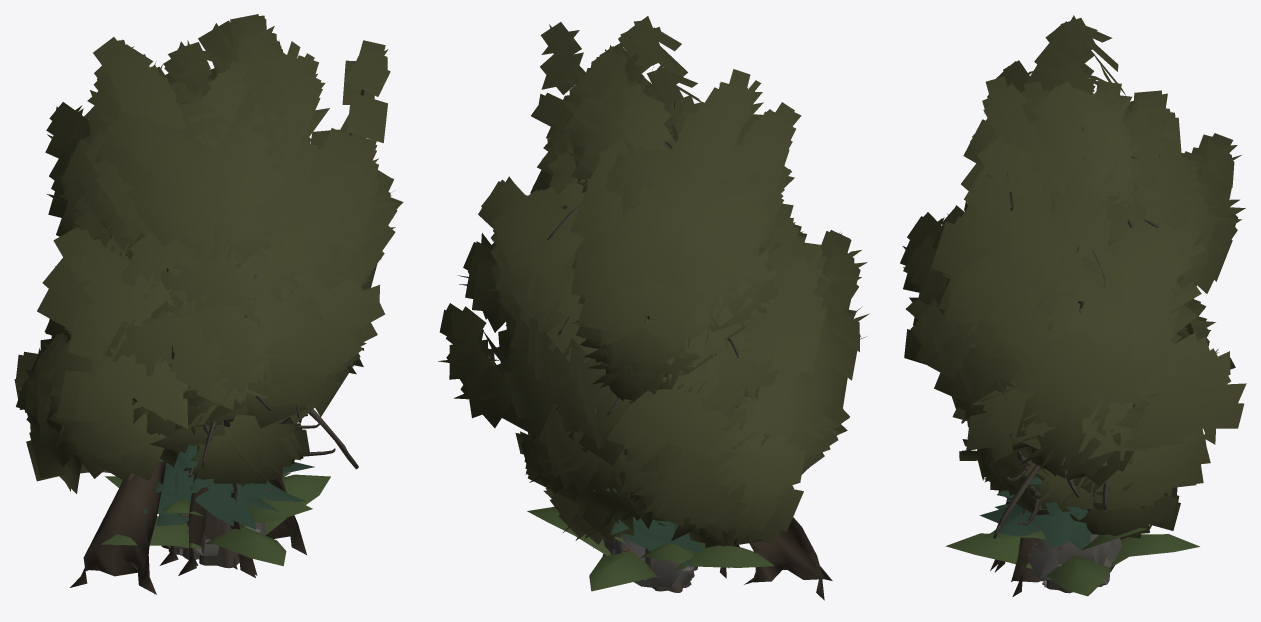
Rendered from nature.glb.
3 renders of one model, left to right at view 1: azimuth 30°, elevation 25°; view 2: azimuth 150°, elevation 25°; view 3: azimuth 270°, elevation 25°, orthographic.
Parts seen in each view (by area): view 1: twistedtree_1, twistedtree_4, twistedtree_2, twistedtree_3, twistedtree_5, fern_1, pine_5, deadtree_5, pine_2, pine_4; view 2: twistedtree_1, twistedtree_2, twistedtree_3, twistedtree_4, fern_1, twistedtree_5, rock_medium_3, pine_5, pine_2; view 3: twistedtree_1, twistedtree_2, twistedtree_4, twistedtree_3, fern_1, twistedtree_5, pine_5, rock_medium_3, deadtree_5, pine_2.
Boxes of the visible parts, box(x1,y1,x2,y2) form: twistedtree_1: box(16, 81, 395, 594); twistedtree_4: box(45, 14, 391, 575); twistedtree_2: box(56, 37, 390, 554); twistedtree_3: box(14, 120, 403, 569); twistedtree_5: box(83, 119, 346, 577); fern_1: box(101, 472, 330, 566); pine_5: box(143, 445, 314, 529); deadtree_5: box(181, 87, 358, 568); pine_2: box(156, 478, 279, 526); pine_4: box(156, 445, 283, 516); twistedtree_1: box(438, 125, 869, 600); twistedtree_2: box(490, 16, 786, 548); twistedtree_3: box(515, 170, 867, 578); twistedtree_4: box(545, 40, 806, 568); fern_1: box(527, 507, 774, 591); twistedtree_5: box(546, 125, 803, 547); rock_medium_3: box(603, 533, 694, 586); pine_5: box(606, 471, 703, 553); pine_2: box(620, 517, 691, 566); twistedtree_1: box(904, 179, 1246, 512); twistedtree_2: box(942, 15, 1196, 596); twistedtree_4: box(903, 60, 1241, 572); twistedtree_3: box(900, 159, 1245, 538); fern_1: box(945, 527, 1199, 596); twistedtree_5: box(932, 151, 1209, 570); pine_5: box(979, 477, 1074, 548); rock_medium_3: box(1027, 534, 1121, 579); deadtree_5: box(977, 143, 1198, 581); pine_2: box(995, 503, 1127, 549).
Bounding box in the file's own units: 13.52 × 18.95 × 11.55.
